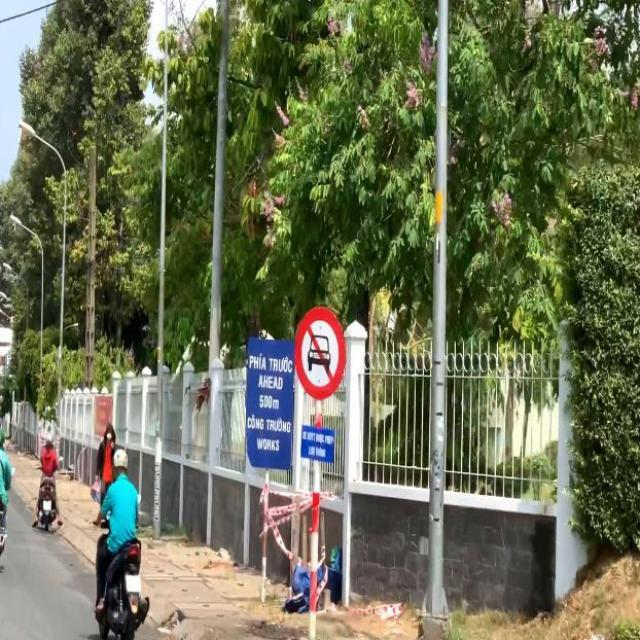Cam_O_To: (294, 306, 347, 400)
